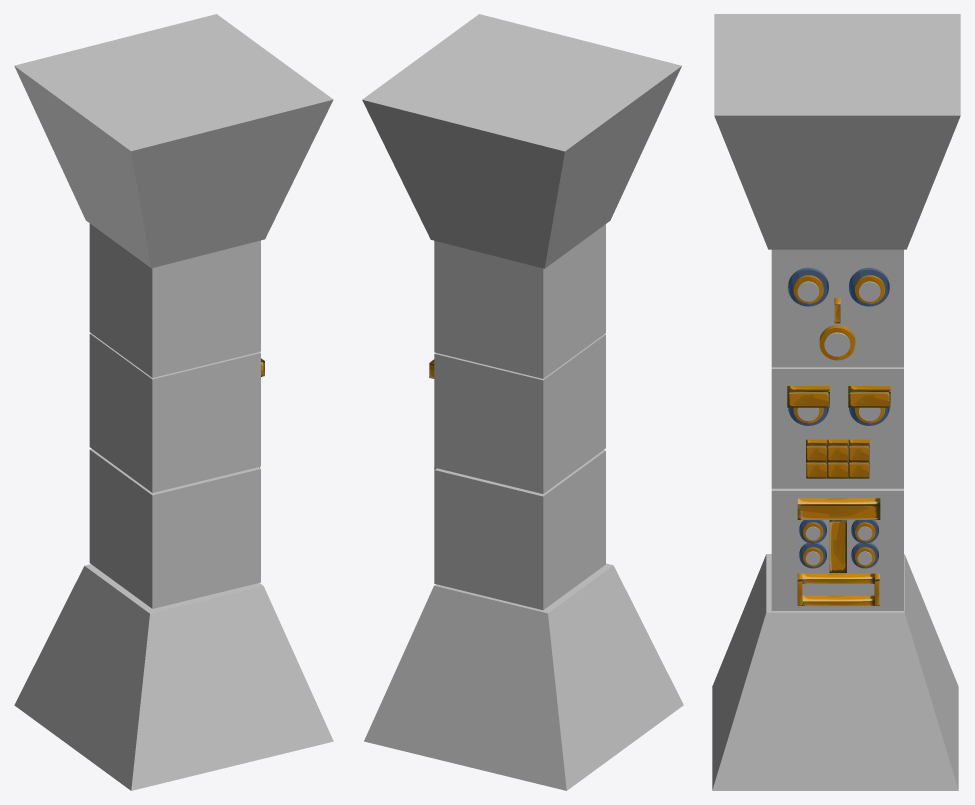
File: Full pillar symbols.fbx
The picture shows the model from 3 angles, left to right: view 1: azimuth 30°, elevation 25°; view 2: azimuth 150°, elevation 25°; view 3: azimuth 270°, elevation 25°; orthographic projection. The views are drawn at different scales.
Visible parts, largest first — view 1: Cube.1438; view 2: Cube.1438; view 3: Cube.1438.
Boxes of the visible parts, x1,y1,x2,y2 form: Cube.1438: (14, 14, 333, 790); Cube.1438: (362, 14, 683, 790); Cube.1438: (712, 14, 960, 790).
Size of the model in its own units: 106 by 319 by 106.
